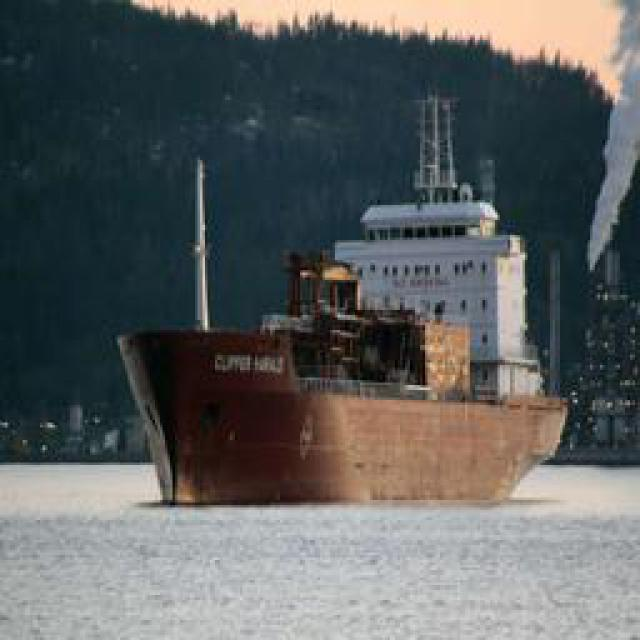Ship: (116, 91, 578, 519)
